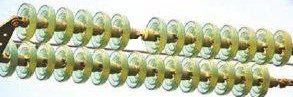gap: (111, 13, 168, 56)
